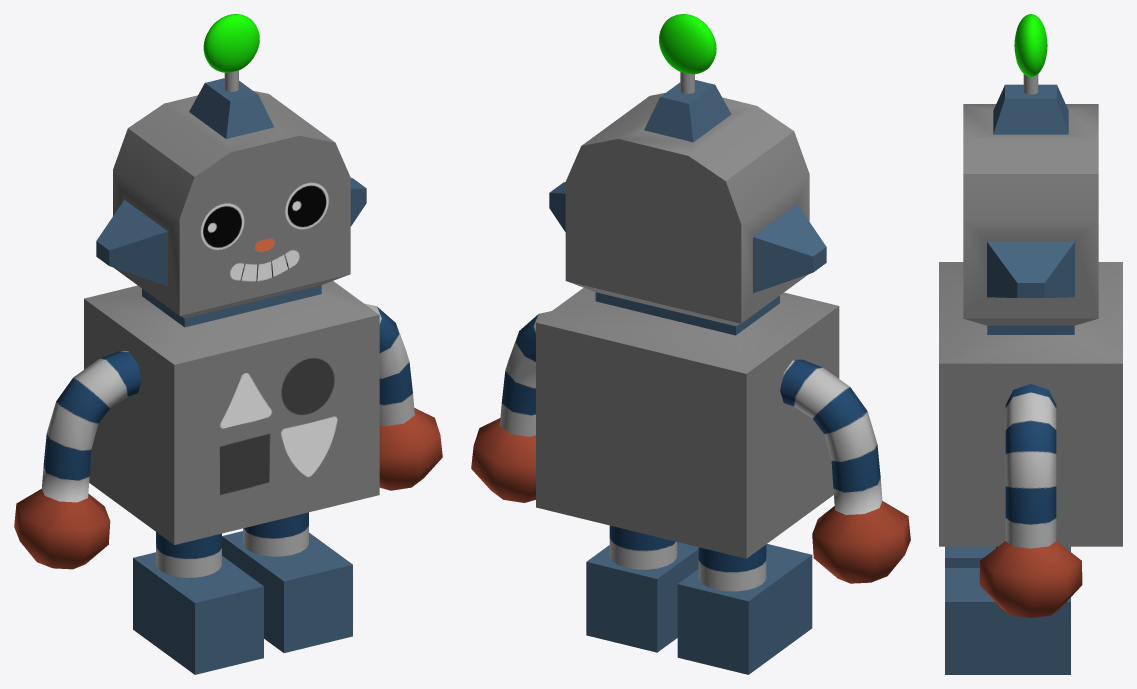
File: robot_separated.fbx
3 views of the same model, side by side, from view 1: azimuth 30°, elevation 25°; view 2: azimuth 150°, elevation 25°; view 3: azimuth 270°, elevation 25° (orthographic). The views are drawn at different scales.
Visible parts, largest first — view 1: polySurface18, polySurface15, polySurface17, polySurface21, polySurface22, polySurface14, polySurface20, polySurface16; view 2: polySurface18, polySurface15, polySurface17, polySurface21, polySurface22, polySurface14, polySurface20, polySurface16; view 3: polySurface18, polySurface22, polySurface21, polySurface14, polySurface17, polySurface19.
Part boxes in pixels (box(x1,y1,x2,y2)): polySurface18: box(84, 78, 379, 544); polySurface15: box(14, 351, 141, 569); polySurface17: box(133, 552, 263, 674); polySurface21: box(222, 531, 352, 652); polySurface22: box(364, 303, 442, 490); polySurface14: box(203, 14, 259, 72); polySurface20: box(156, 532, 221, 577); polySurface16: box(243, 512, 308, 556); polySurface18: box(536, 80, 839, 558); polySurface15: box(780, 359, 910, 583); polySurface17: box(677, 544, 812, 674); polySurface21: box(586, 542, 698, 652); polySurface22: box(471, 311, 551, 502); polySurface14: box(659, 14, 716, 74); polySurface20: box(698, 544, 766, 591); polySurface16: box(609, 525, 677, 569); polySurface18: box(939, 84, 1122, 546); polySurface22: box(979, 384, 1082, 617); polySurface21: box(945, 568, 1070, 674); polySurface14: box(1014, 14, 1047, 76); polySurface17: box(945, 546, 1070, 567); polySurface19: box(1023, 74, 1038, 94).
Bounding box in the file's own units: 2.07 × 2.89 × 0.778.
6 materials, 2 textured.
